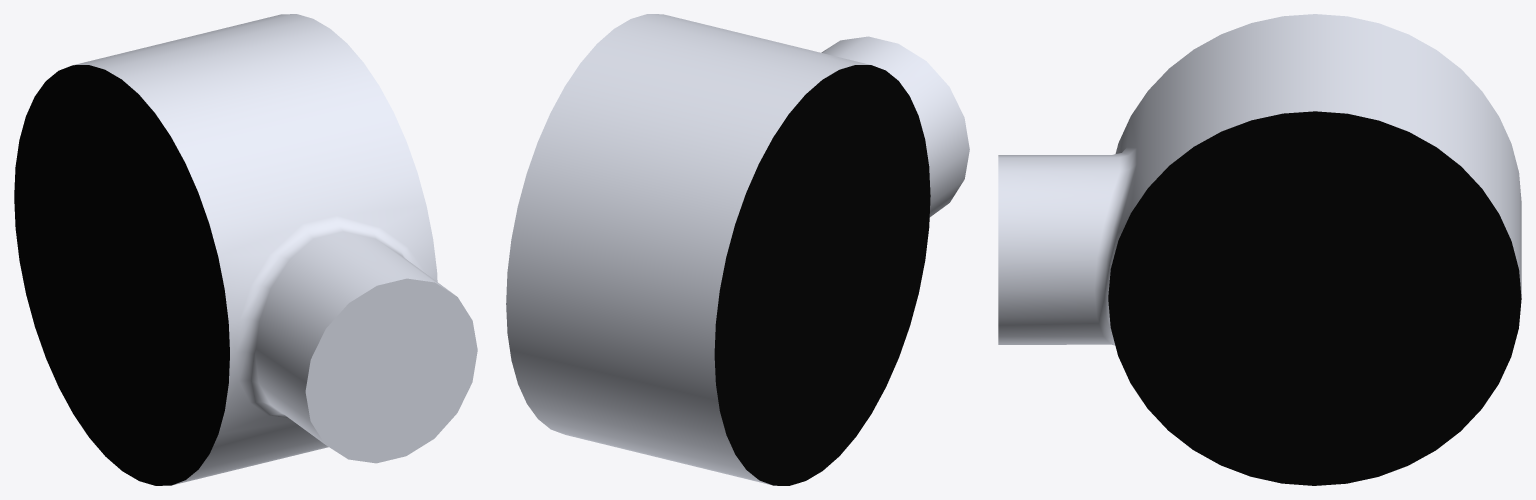
Rendered from elbow.obj.
3 views of the same model, side by side, from view 1: azimuth 30°, elevation 25°; view 2: azimuth 150°, elevation 25°; view 3: azimuth 270°, elevation 25° (orthographic). The views are drawn at different scales.
Visible parts, largest first — view 1: elbow; view 2: elbow; view 3: elbow.
Boxes of the visible parts, left/top/right/bottom form: elbow: left=14, top=14, right=477, bottom=485; elbow: left=506, top=14, right=969, bottom=485; elbow: left=998, top=14, right=1521, bottom=485.
Size of the model in its own units: 0.066 by 0.1184 by 0.1498.
1 material, 1 textured.
